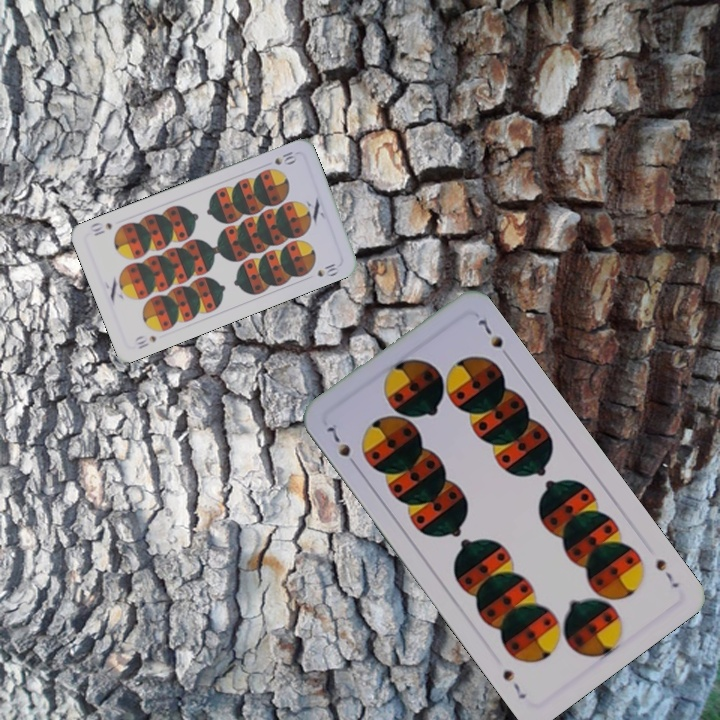S10: (270, 147, 298, 168), (134, 331, 159, 351)
S7: (322, 422, 361, 471), (651, 555, 682, 591)
